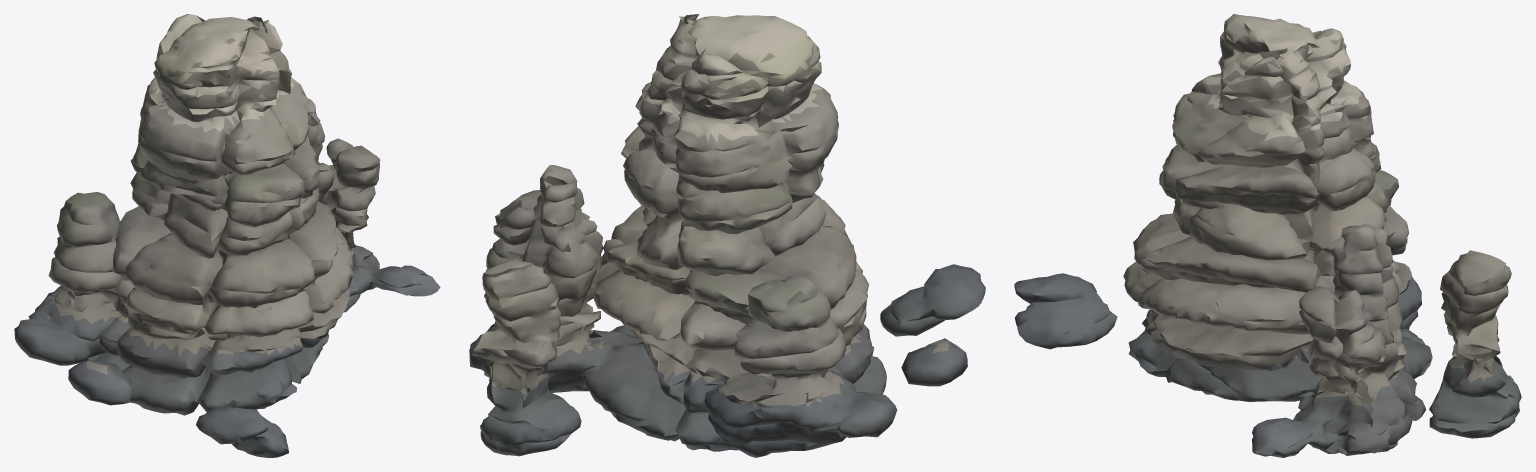
File: searock_c.0e035d14.glb
3 renders of one model, left to right at view 1: azimuth 30°, elevation 25°; view 2: azimuth 150°, elevation 25°; view 3: azimuth 270°, elevation 25°, orthographic. The views are drawn at different scales.
Parts seen in each view (by area): view 1: searock_c; view 2: searock_c; view 3: searock_c.
Boxes of the visible parts, x1,y1,x2,y2 form: searock_c: (14,14,440,457); searock_c: (469,14,985,457); searock_c: (1014,14,1521,457).
Size of the model in its own units: 7.91 by 6.75 by 8.58.
